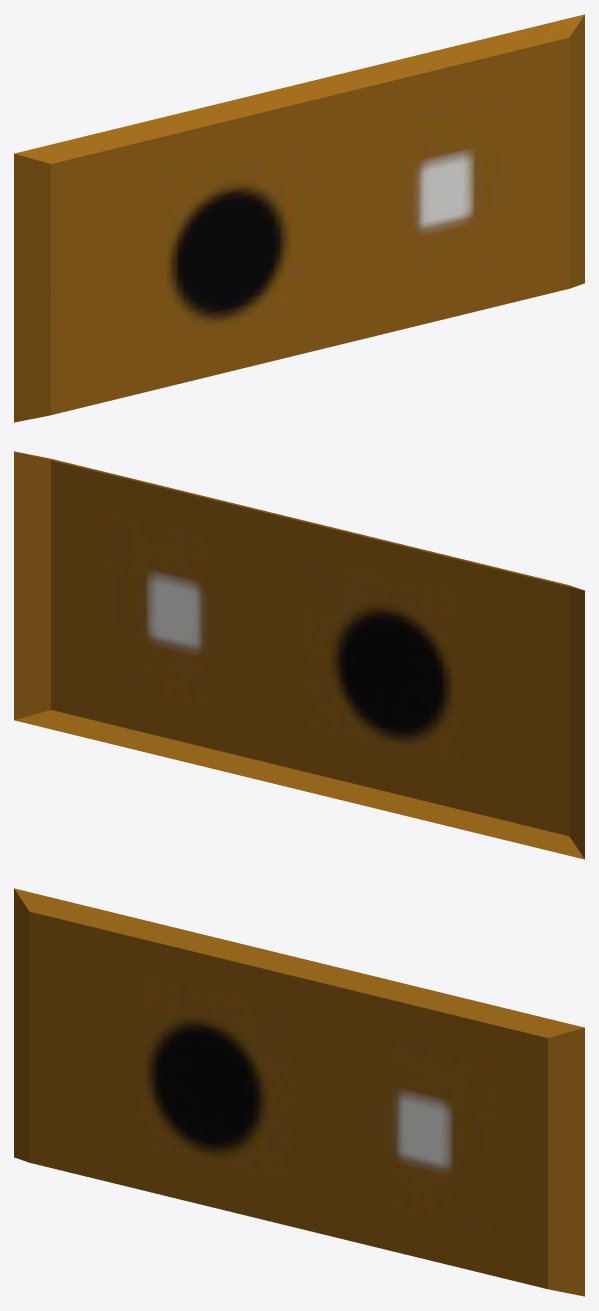
Rendered from SA_GoldStopKontak02.fbx.
The picture shows the model from 3 angles, top to bottom: view 1: azimuth 30°, elevation 25°; view 2: azimuth 150°, elevation 25°; view 3: azimuth 330°, elevation 25°; orthographic projection.
Visible parts, largest first — view 1: SA_GoldStopKontak02; view 2: SA_GoldStopKontak02; view 3: SA_GoldStopKontak02.
Part boxes in pixels (x1,y1,x2,y2): SA_GoldStopKontak02: (14,14,584,422); SA_GoldStopKontak02: (14,451,584,859); SA_GoldStopKontak02: (14,888,584,1296).
Bounding box in the file's own units: 23.98 × 10.8 × 0.7879.
